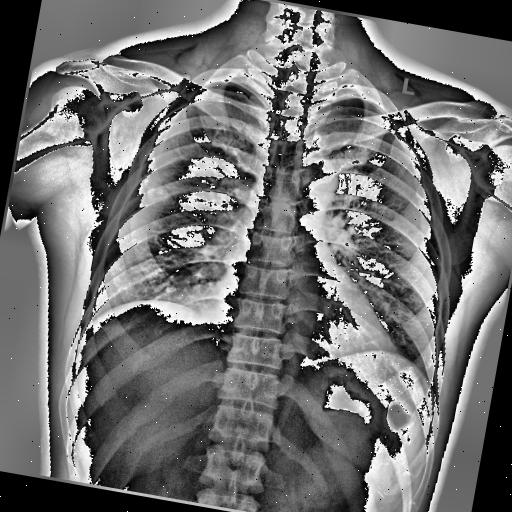0- Aortic enlargement: (281, 150, 344, 212)
11- Pleural thickening: (204, 78, 250, 96)
3- Cardiomegaly: (207, 275, 407, 372)
6- Infiltration: (137, 161, 203, 216), (138, 166, 186, 209)
7- Lung Opacity: (137, 161, 203, 216), (138, 166, 186, 209)
